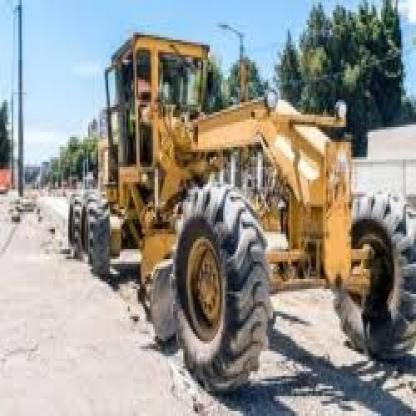bull_dozer/loader/grader: (44, 18, 414, 398)
